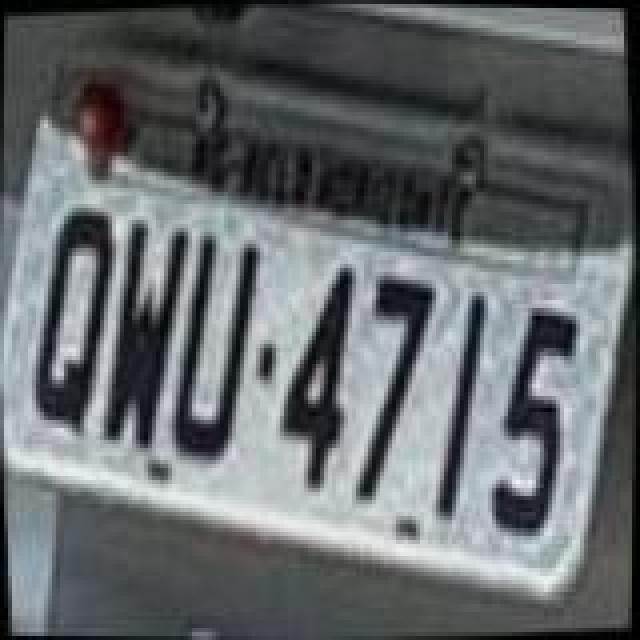1: (416, 286, 504, 522)
4: (264, 262, 372, 494)
5: (476, 302, 596, 538)
7: (338, 270, 454, 506)
Q: (24, 206, 132, 442)
U: (158, 230, 278, 466)
W: (90, 214, 210, 454)
